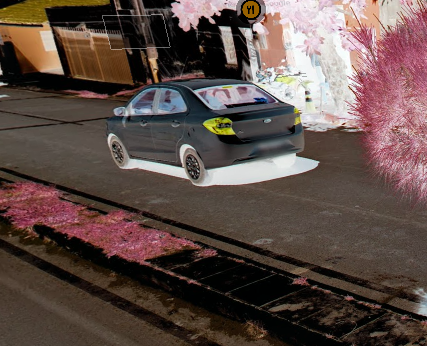car: (98, 71, 307, 189)
